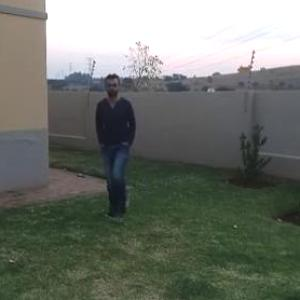follow: (92, 72, 137, 205)
